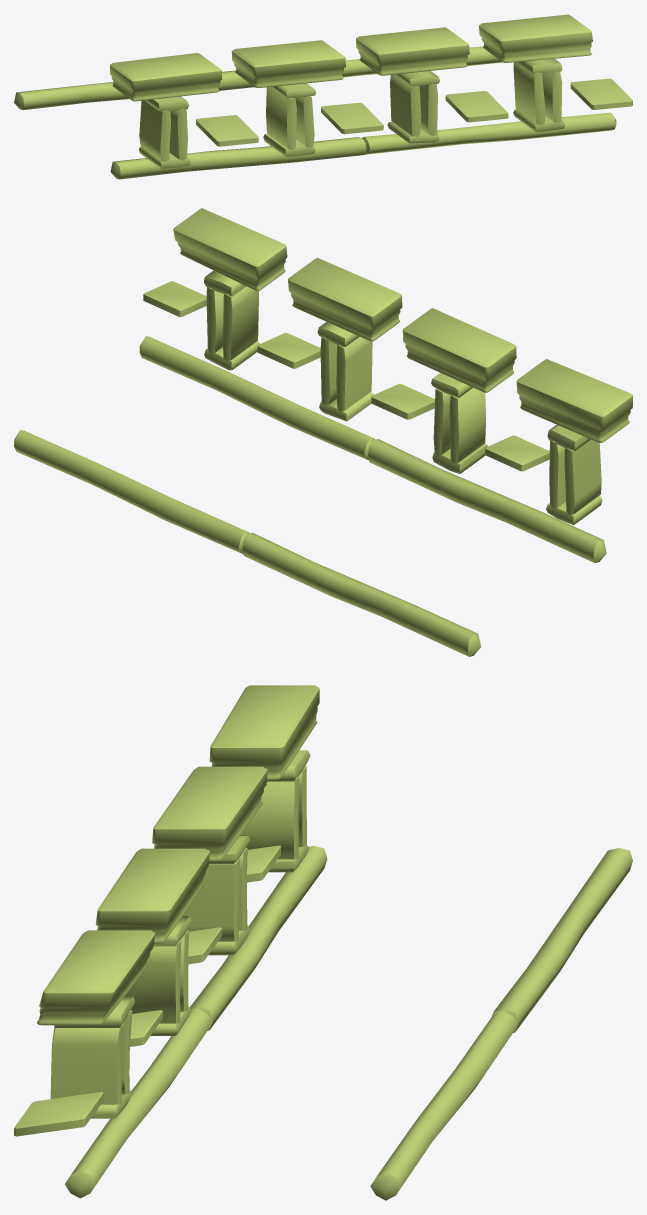
Rendered from wall_outer_10m_angle_b_deco.fbx.
The picture shows the model from 3 angles, top to bottom: view 1: azimuth 30°, elevation 25°; view 2: azimuth 150°, elevation 25°; view 3: azimuth 270°, elevation 25°; orthographic projection. The views are drawn at different scales.
Visible parts, largest first — view 1: Cube.101; view 2: Cube.101; view 3: Cube.101.
Part boxes in pixels (left/top/right/bottom): Cube.101: left=14, top=14, right=632, bottom=179; Cube.101: left=14, top=208, right=632, bottom=656; Cube.101: left=14, top=685, right=632, bottom=1200.
Bounding box in the file's own units: 10.18 × 2.67 × 7.97.
